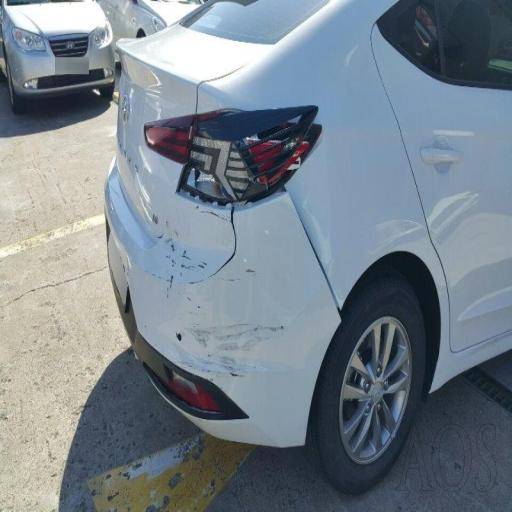broken: (148, 93, 298, 294)
scratch: (149, 291, 289, 418)
